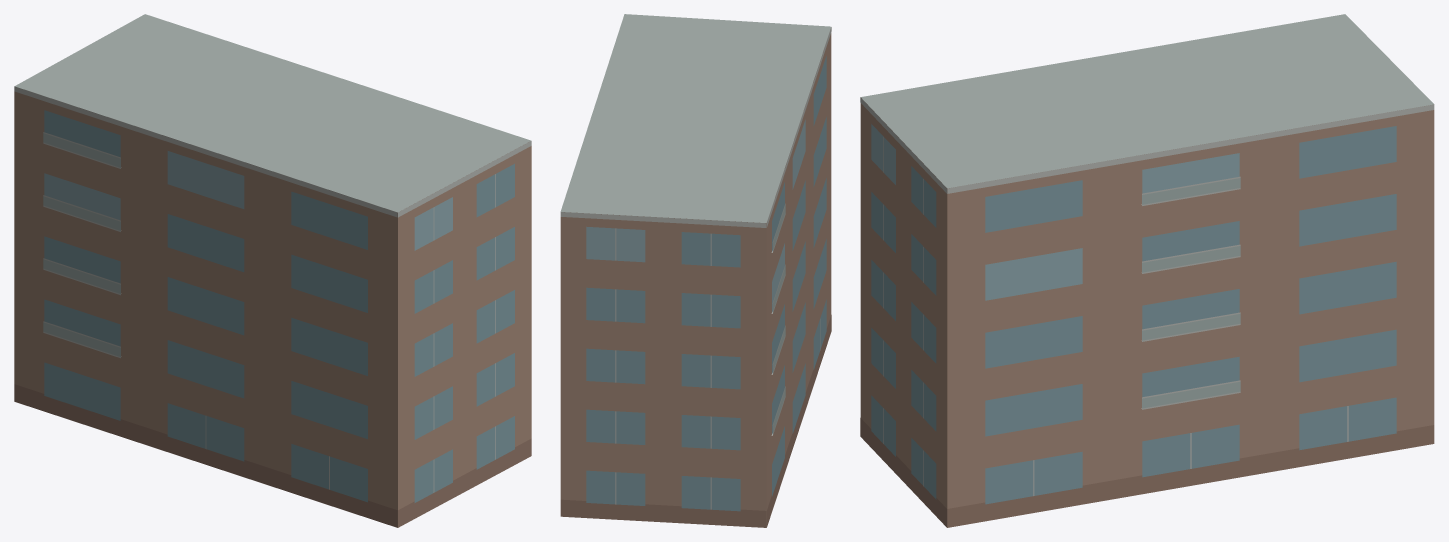
The model's file is survey-upis-32853801.glb.
3 renders of one model, left to right at view 1: azimuth 30°, elevation 25°; view 2: azimuth 150°, elevation 25°; view 3: azimuth 270°, elevation 25°, orthographic. The views are drawn at different scales.
Parts seen in each view (by area): view 1: survey-upis-32853801.tmp; view 2: survey-upis-32853801.tmp; view 3: survey-upis-32853801.tmp.
Boxes of the visible parts, x1=… form: survey-upis-32853801.tmp: x1=14, y1=14, x2=531, y2=527; survey-upis-32853801.tmp: x1=560, y1=14, x2=831, y2=527; survey-upis-32853801.tmp: x1=860, y1=14, x2=1434, y2=527.
Size of the model in its own units: 16.54 by 15 by 22.99.
